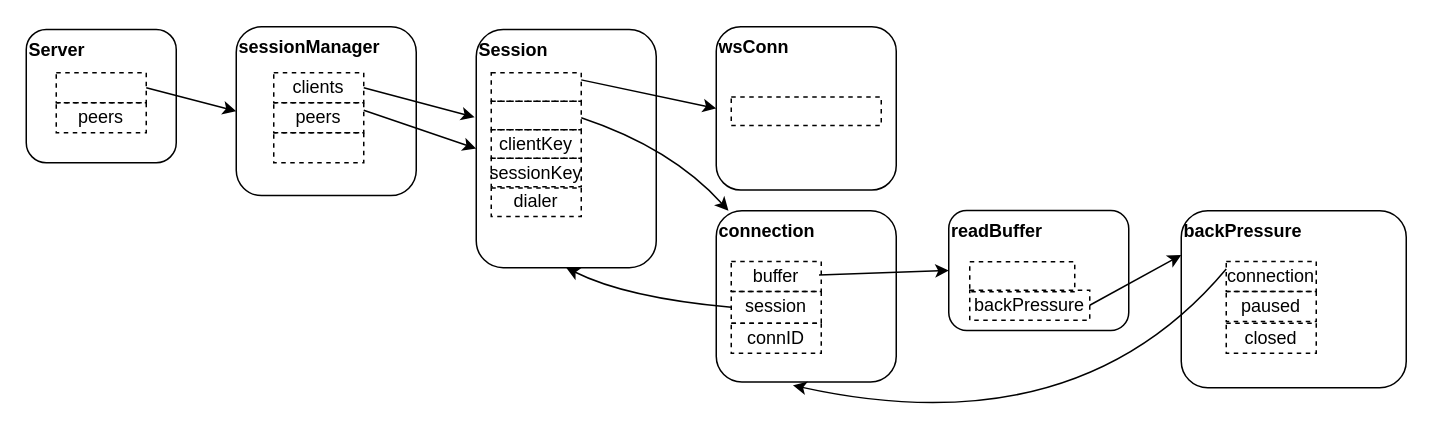
Image size: 1433x429. Some labels were removed from this diagram. Each missing label, with the centre of its shape:
bytes.Buffer: (x=1021, y=276)
conn: (x=535, y=86)
conns: (x=535, y=115)
listeners: (x=318, y=147)
sessions: (x=100, y=87)
websocket.Conn: (x=805, y=110)
